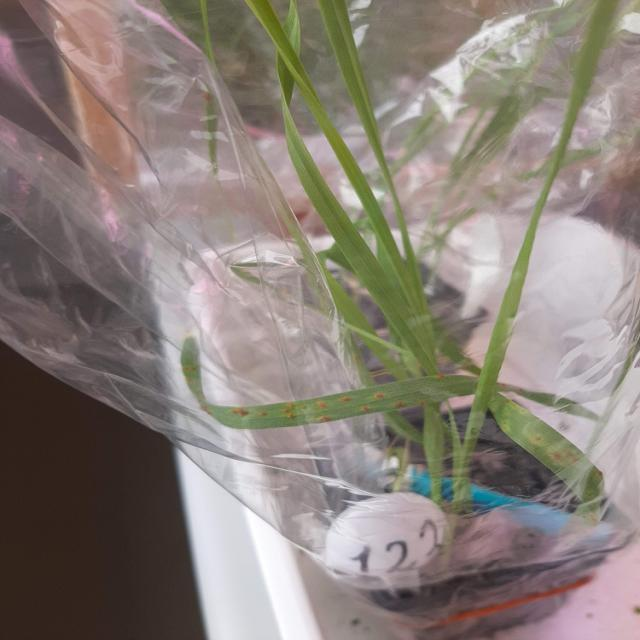wheat-stemrust: (230, 407, 250, 417), (549, 452, 562, 463), (312, 416, 333, 422), (316, 401, 332, 408), (200, 403, 210, 414), (374, 393, 386, 400), (393, 401, 405, 408), (563, 451, 575, 458), (259, 409, 269, 416), (280, 408, 290, 414), (590, 514, 597, 522), (535, 436, 544, 442), (288, 403, 296, 409), (340, 397, 351, 401), (301, 405, 308, 411), (191, 366, 198, 372), (288, 414, 296, 419), (436, 374, 446, 378), (360, 406, 369, 410), (418, 401, 425, 406), (572, 458, 580, 462), (499, 383, 507, 387), (502, 421, 508, 425), (518, 388, 524, 392), (185, 367, 190, 371), (185, 378, 189, 383), (598, 471, 603, 475), (513, 403, 518, 407), (505, 400, 511, 403)
